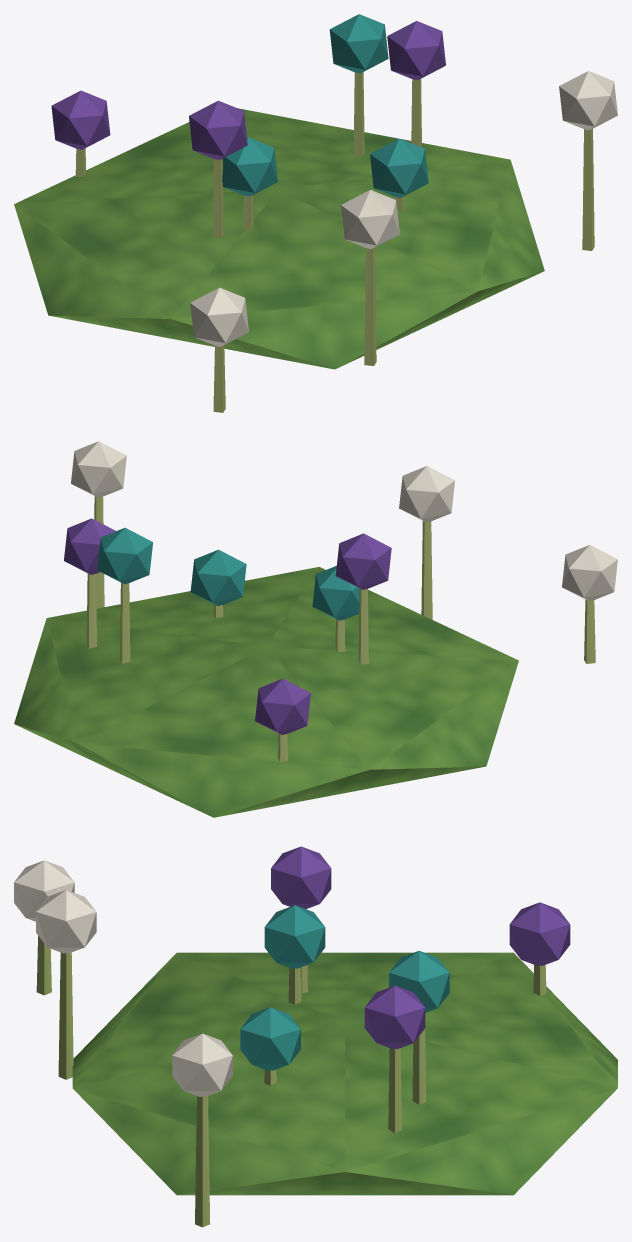
The model's file is SM_Flowers02.fbx.
3 views of the same model, one above another, from view 1: azimuth 30°, elevation 25°; view 2: azimuth 150°, elevation 25°; view 3: azimuth 270°, elevation 25° (orthographic). The views are drawn at different scales.
Parts seen in each view (by area): view 1: SM_Flowers02; view 2: SM_Flowers02; view 3: SM_Flowers02.
Boxes of the visible parts, x1=… form: SM_Flowers02: x1=14, y1=14, x2=617, y2=412; SM_Flowers02: x1=14, y1=441, x2=617, y2=817; SM_Flowers02: x1=14, y1=846, x2=617, y2=1227.
Bounding box in the file's own units: 2.44 × 1.03 × 2.37.
1 material, 1 textured.
